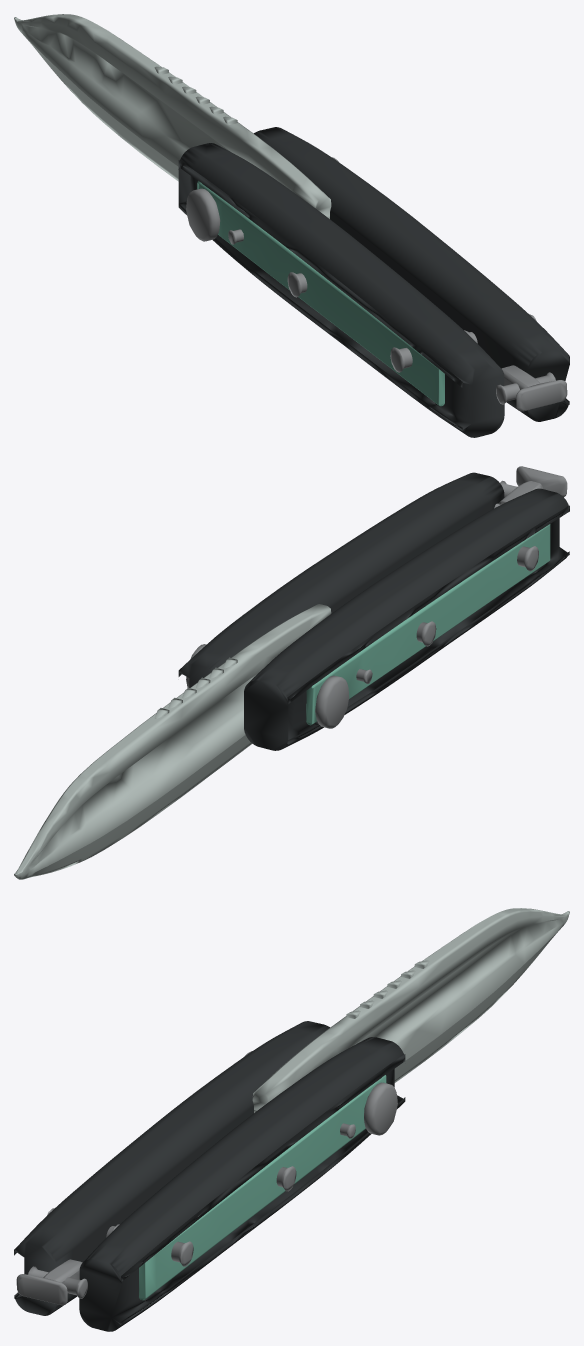
Rendered from butterfly.glb.
3 renders of one model, top to bottom at view 1: azimuth 30°, elevation 25°; view 2: azimuth 150°, elevation 25°; view 3: azimuth 330°, elevation 25°, orthographic.
Visible parts, largest first — view 1: HandleLeft, HandleRight, Blade, InlayLeft, PivotBossLeft, LatchHead, Latch; view 2: HandleLeft, Blade, HandleRight, InlayLeft, PivotBossLeft, LatchHead; view 3: HandleRight, HandleLeft, Blade, InlayRight, PivotBossRight, LatchHead, Latch, LatchPin.
Boxes of the visible parts, x1=… form: HandleLeft: x1=178, y1=143, x2=504, y2=437; HandleRight: x1=254, y1=127, x2=569, y2=421; Blade: x1=14, y1=14, x2=331, y2=218; InlayLeft: x1=197, y1=181, x2=444, y2=406; PivotBossLeft: x1=186, y1=188, x2=220, y2=241; LatchHead: x1=516, y1=380, x2=567, y2=411; Latch: x1=501, y1=365, x2=539, y2=389; HandleLeft: x1=244, y1=488, x2=569, y2=750; Blade: x1=14, y1=604, x2=331, y2=879; HandleRight: x1=178, y1=472, x2=504, y2=687; InlayLeft: x1=306, y1=524, x2=550, y2=725; PivotBossLeft: x1=315, y1=675, x2=349, y2=728; LatchHead: x1=516, y1=466, x2=567, y2=496; HandleRight: x1=79, y1=1037, x2=405, y2=1331; HandleLeft: x1=14, y1=1021, x2=329, y2=1315; Blade: x1=252, y1=908, x2=569, y2=1112; InlayRight: x1=139, y1=1075, x2=386, y2=1300; PivotBossRight: x1=364, y1=1082, x2=397, y2=1135; LatchHead: x1=16, y1=1274, x2=67, y2=1305; Latch: x1=43, y1=1259, x2=82, y2=1283; LatchPin: x1=28, y1=1266, x2=87, y2=1298.
Size of the model in its own units: 0.0378 by 0.0259 by 0.2466.
